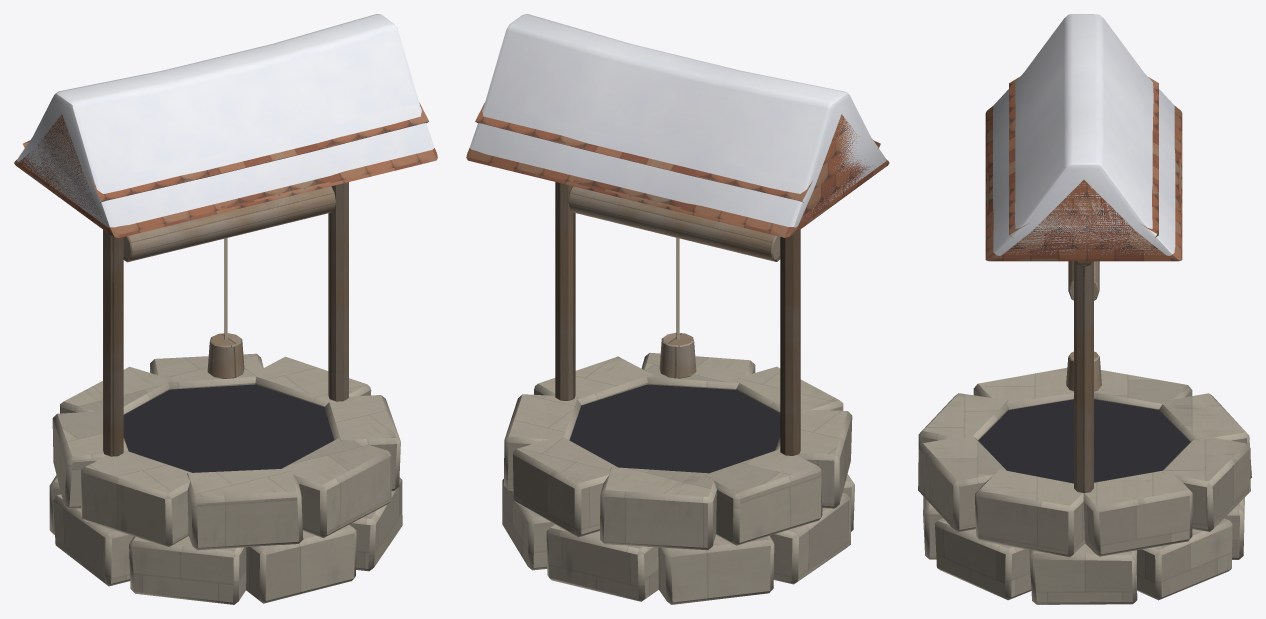
File: well.glb
3 views of the same model, side by side, from view 1: azimuth 30°, elevation 25°; view 2: azimuth 150°, elevation 25°; view 3: azimuth 270°, elevation 25° (orthographic). The views are drawn at different scales.
Parts seen in each view (by area): view 1: well; view 2: well; view 3: well.
Part boxes in pixels (box(x1,y1,x2,y2)): well: box(14, 14, 437, 604); well: box(466, 14, 889, 604); well: box(918, 14, 1251, 604).
Size of what is drawn, in the model's own units: 3.2 by 4.43 by 2.97.
Materials: 7 (6 with a texture image).
